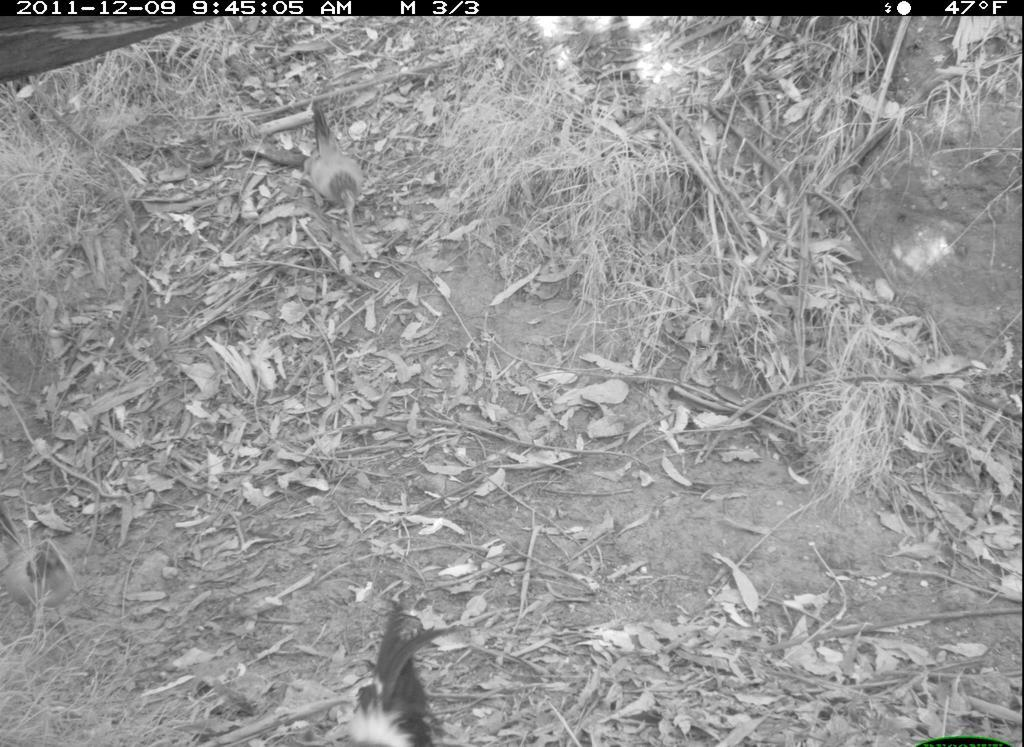bird: (326, 593, 465, 744)
